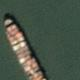ship: (2, 0, 52, 40)
